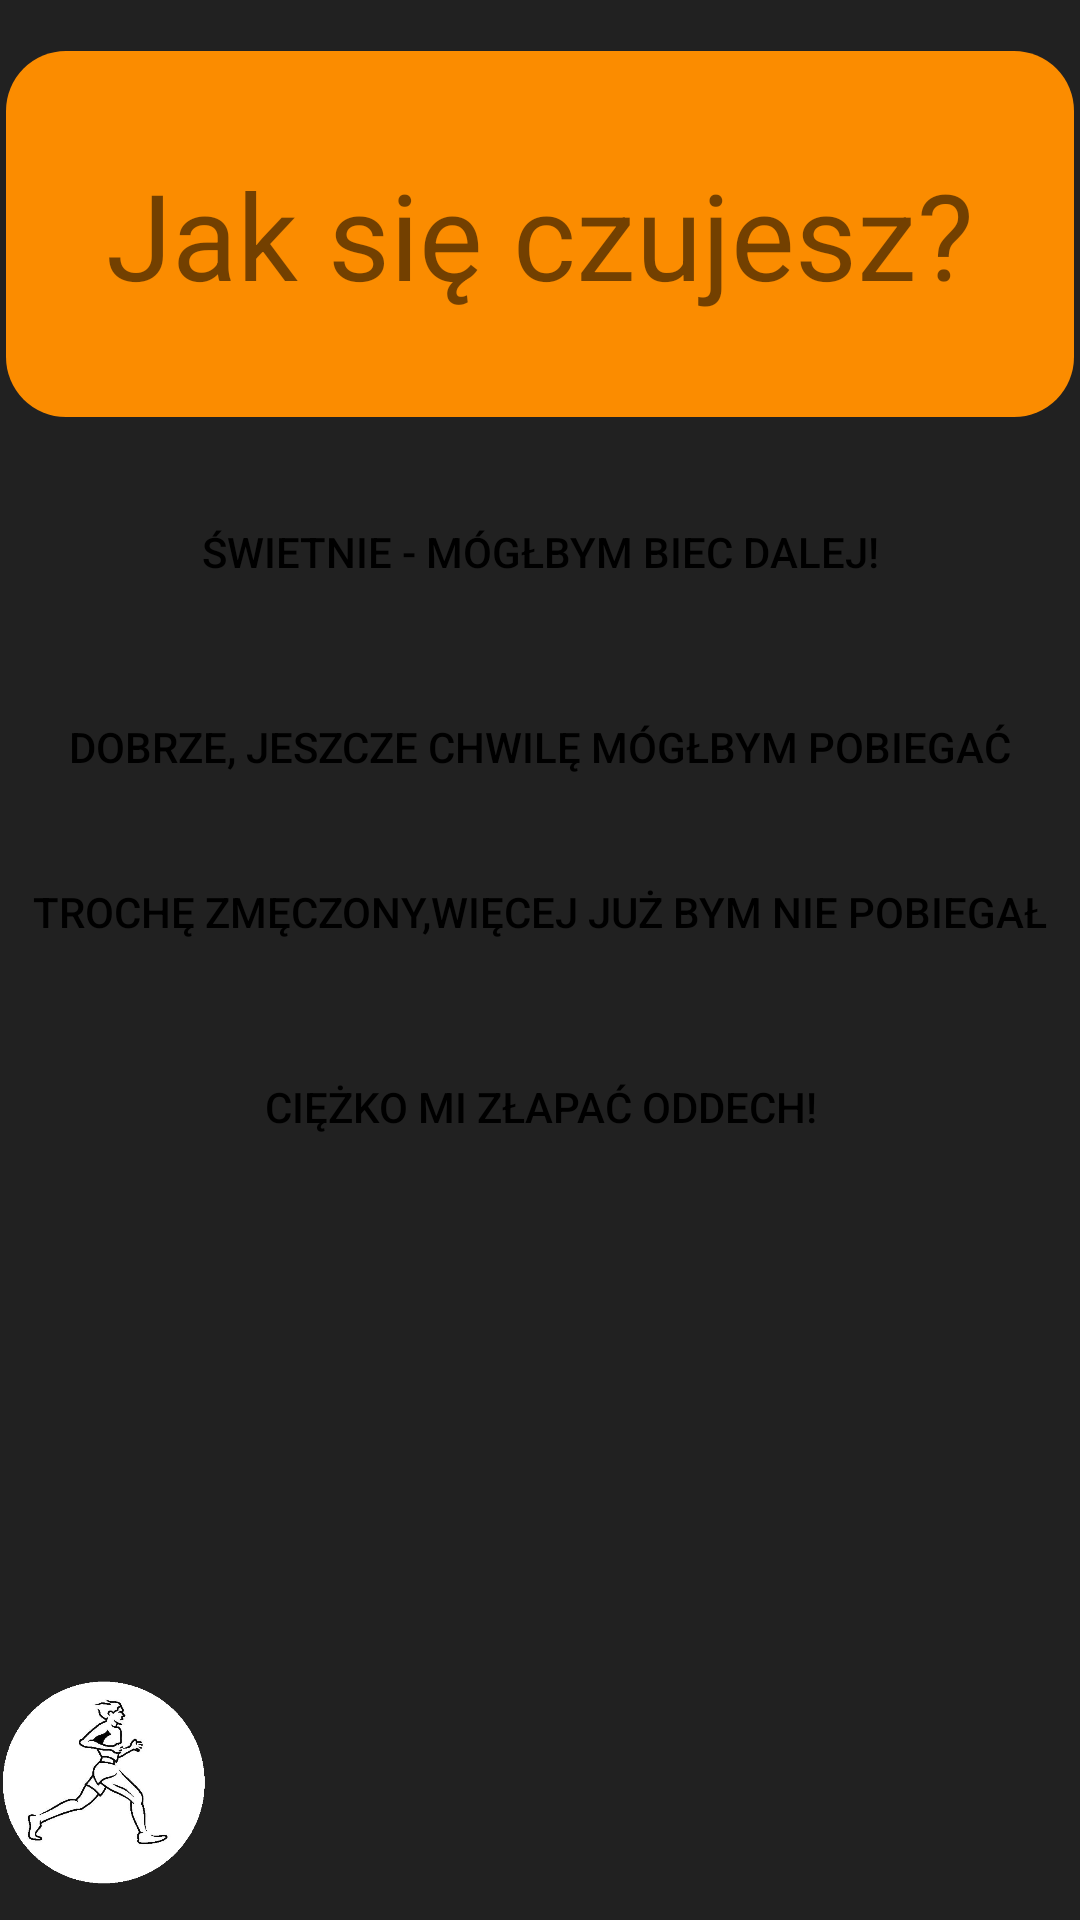

Where to tap for icons on this 1080px×1920px app screen, as (x=x, y=y):
biegaczz: (x=104, y=1782)
